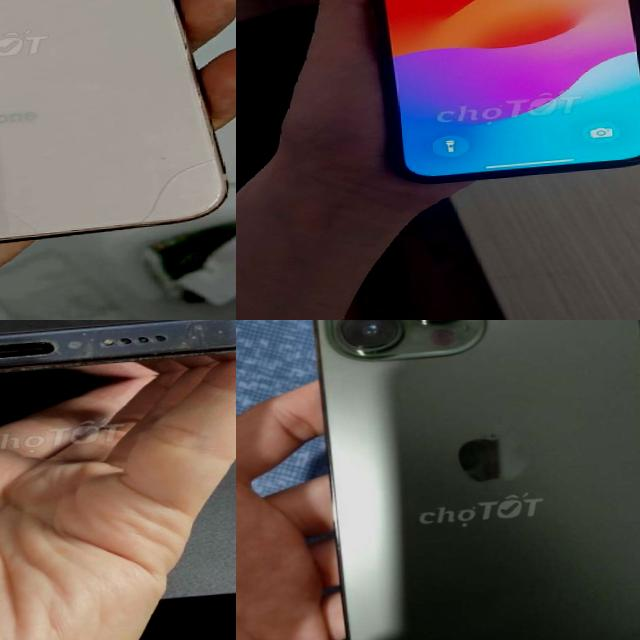gen_12_13: (294, 320, 640, 640)
gen_15: (0, 320, 236, 416)
gen_16: (373, 0, 640, 182)
gen_7_8: (0, 0, 236, 266)
